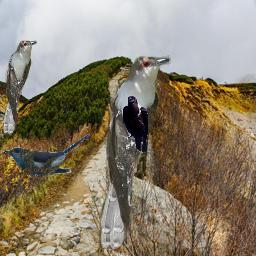Crow: (122, 95, 148, 154)
Cuckoo: (98, 53, 171, 249), (1, 133, 92, 178), (2, 39, 37, 134)
